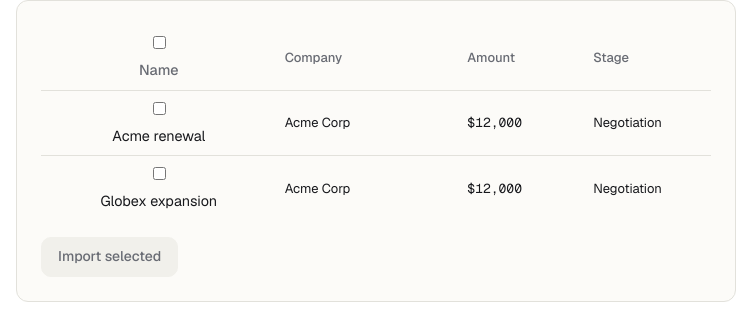
Test: CrmDealPicker — deal list › marks select-all indeterminate on partial selection, and never renders a second Signal
Expected: the number of buttons is 1, [41,237,178,277]
Click the checkbox named "Select Acme renewal (Acme Corp)".
click(159, 108)  # box [153,102,166,115]
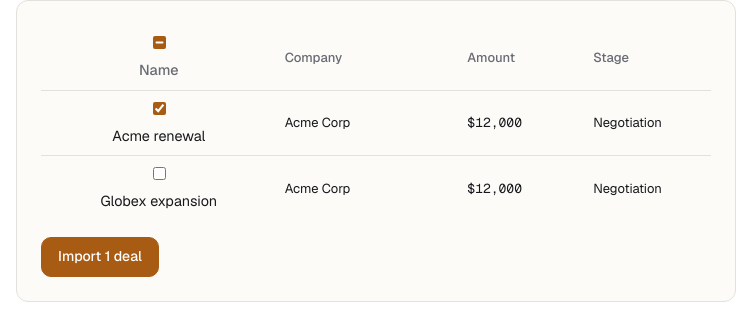
Expected: the checkbox named "Select all deals" is not checked, [153,36,166,49]
Click the checkbox named "Select Globex expansion (Acme Corp)".
click(159, 174)  # box [153,167,166,180]
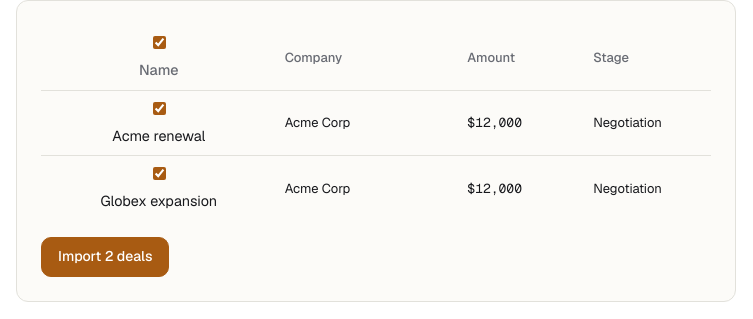
Expected: the number of buttons is 1, [41,237,170,277]
Result: the checkbox named "Select all deals" is checked at [153,36,166,49]
